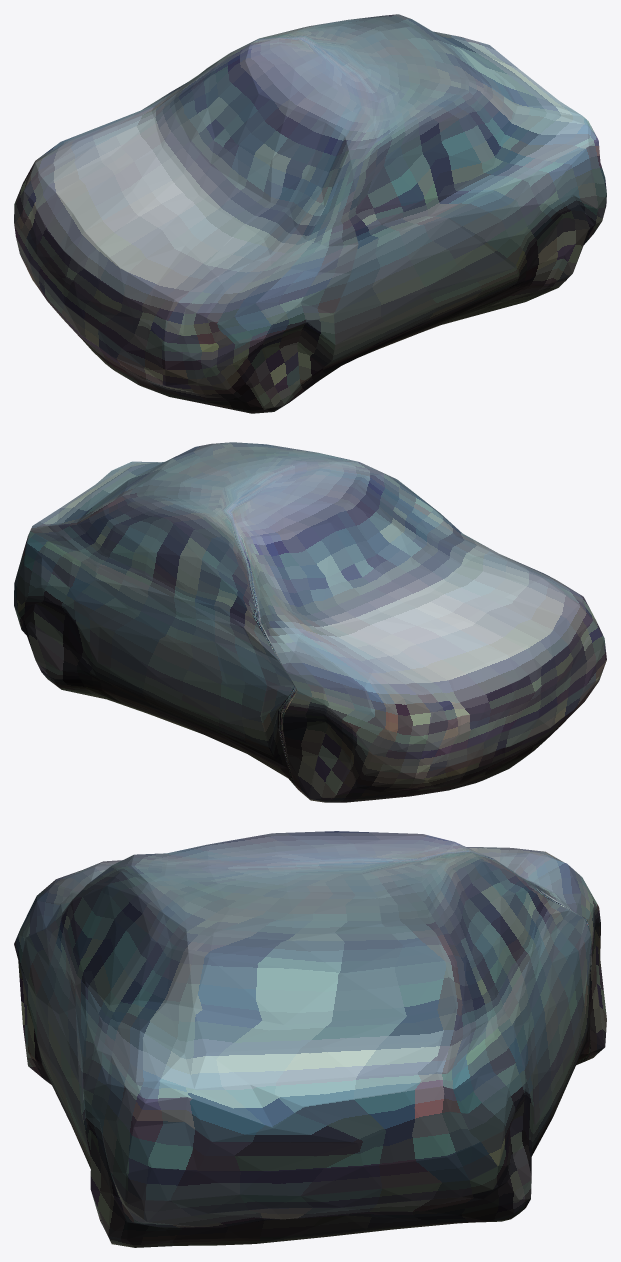
File: video3_189.obj
3 views of the same model, one above another, from view 1: azimuth 30°, elevation 25°; view 2: azimuth 150°, elevation 25°; view 3: azimuth 270°, elevation 25° (orthographic). The views are drawn at different scales.
Bounding box in the file's own units: 1 × 0.472 × 0.7503.
1 material, 1 textured.
